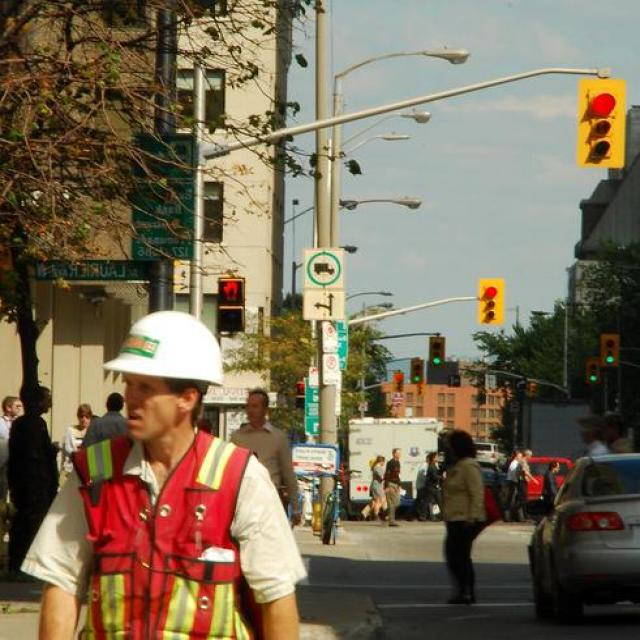Reflective-Jacket: (56, 430, 272, 640)
Safety-Helmet: (100, 304, 234, 396)
